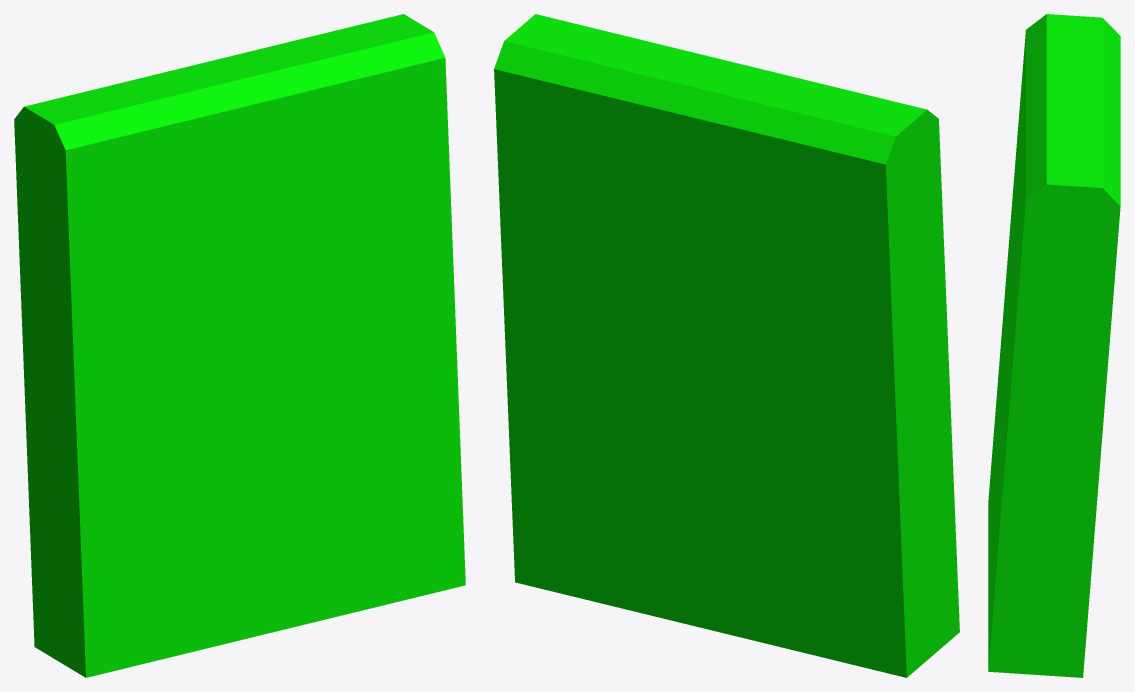
File: Siepe.fbx
3 views of the same model, side by side, from view 1: azimuth 30°, elevation 25°; view 2: azimuth 150°, elevation 25°; view 3: azimuth 270°, elevation 25° (orthographic). The views are drawn at different scales.
Visible parts, largest first — view 1: Cube; view 2: Cube; view 3: Cube.
Part boxes in pixels (left/top/right/bottom): Cube: left=14, top=14, right=465, bottom=677; Cube: left=494, top=14, right=959, bottom=677; Cube: left=988, top=14, right=1120, bottom=677.
Size of the model in its own units: 850 by 1147 by 278.
